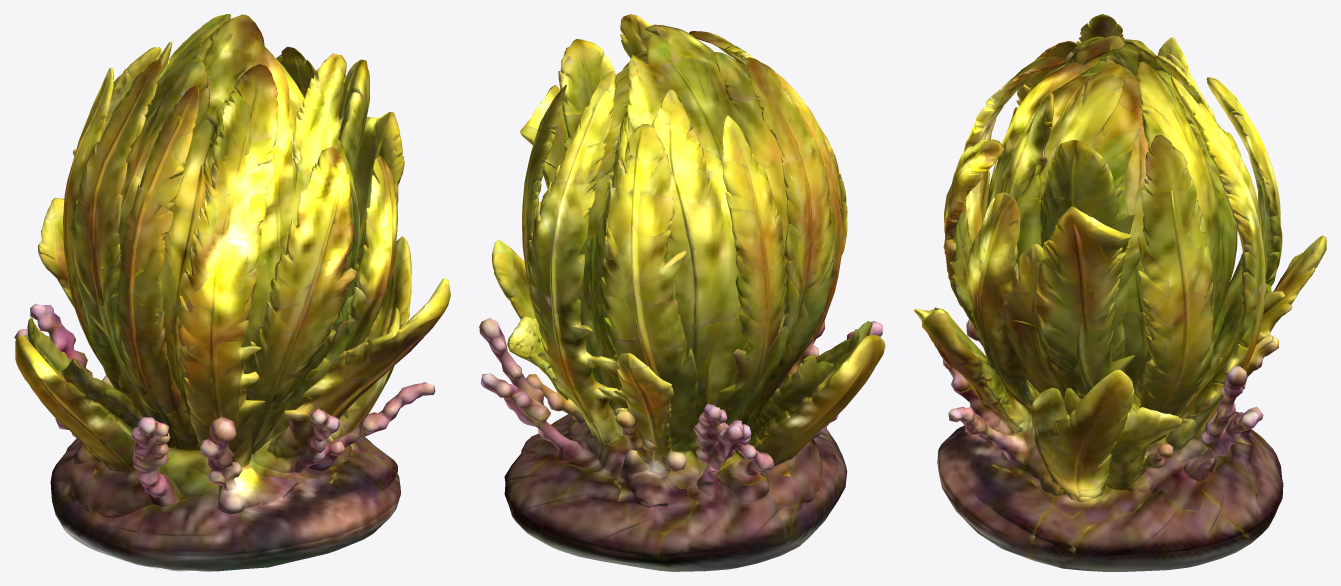
The model's file is wildmaw.glb.
3 renders of one model, left to right at view 1: azimuth 30°, elevation 25°; view 2: azimuth 150°, elevation 25°; view 3: azimuth 270°, elevation 25°, orthographic. The views are drawn at different scales.
Bounding box in the file's own units: 1.58 × 1.9 × 1.49.
Materials: 1 (1 with a texture image).
